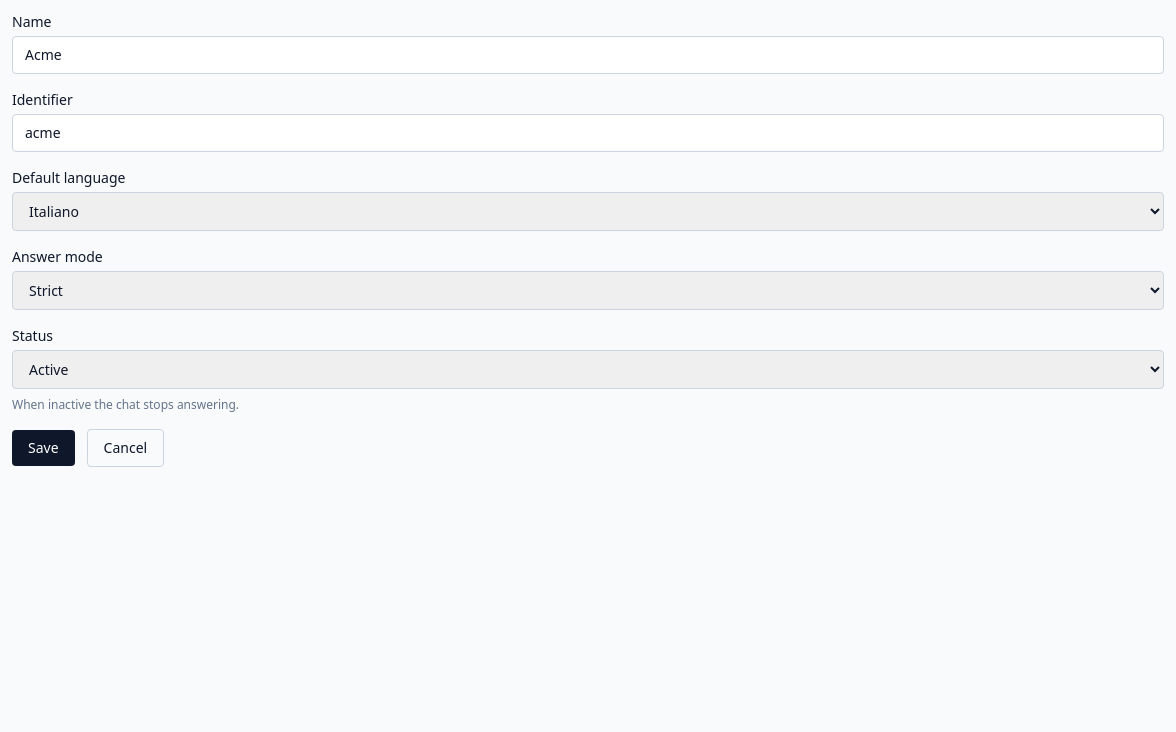
EditWorkspaceForm › shows a slug conflict error
Click the button "Save" at (43, 448), box [12, 430, 75, 466]
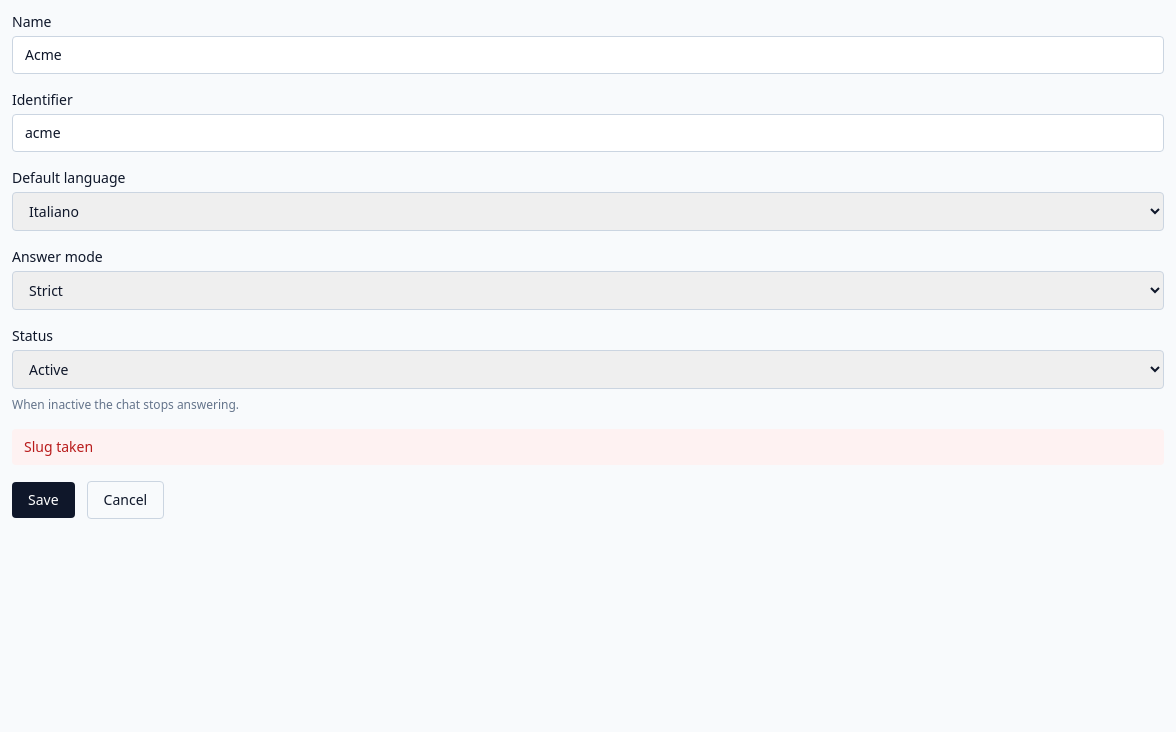
Now the message reads "Slug taken", box [24, 437, 93, 456]
